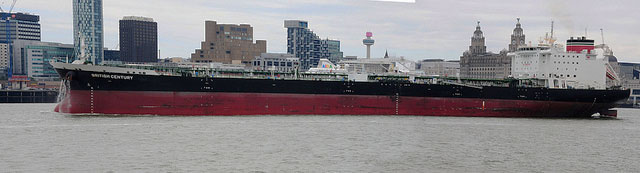tanker: (48, 26, 626, 120)
